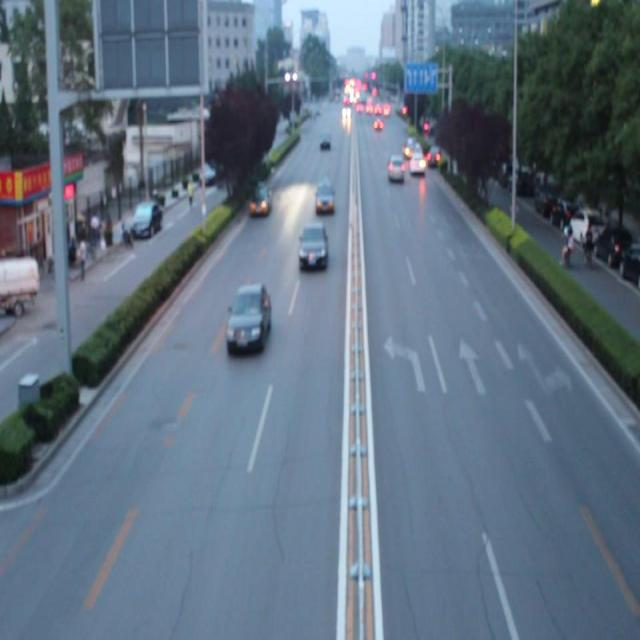car: (226, 283, 271, 348), (297, 221, 328, 271), (314, 178, 336, 216), (249, 182, 272, 217)
